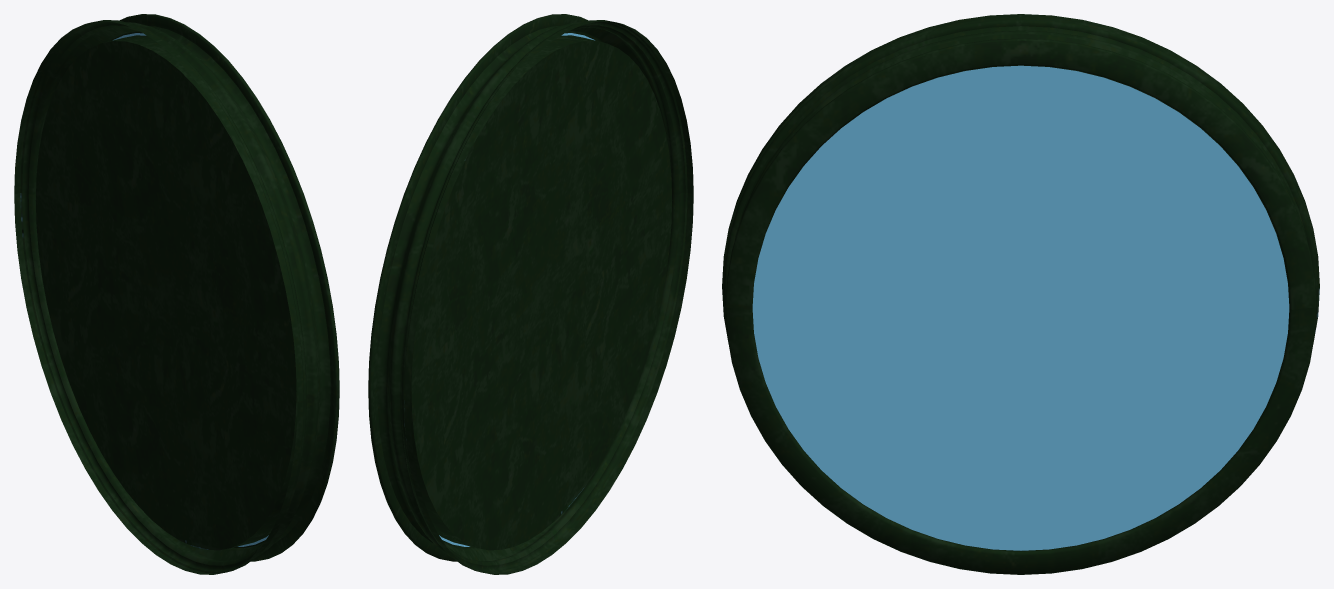
File: cP_WaterFountain03.dae
The picture shows the model from 3 angles, left to right: view 1: azimuth 30°, elevation 25°; view 2: azimuth 150°, elevation 25°; view 3: azimuth 270°, elevation 25°; orthographic projection. The views are drawn at different scales.
Visible parts, largest first — view 1: cP_WaterFountain03.001; view 2: cP_WaterFountain03.001; view 3: cP_WaterFountain03.001.
Boxes of the visible parts, <box> form: cP_WaterFountain03.001: <box>14,14,339,574</box>; cP_WaterFountain03.001: <box>368,14,693,574</box>; cP_WaterFountain03.001: <box>722,14,1319,574</box>.
Size of the model in its own units: 0.7911 by 8 by 8.
